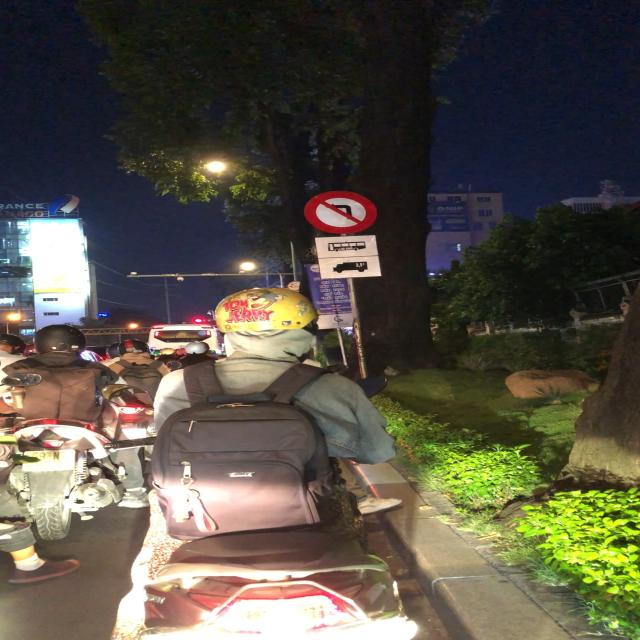Bien bao cam re trai: (301, 190, 382, 236)
